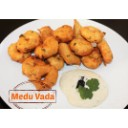vada: (93, 35, 115, 63), (57, 41, 82, 65), (32, 37, 58, 59), (36, 63, 57, 90), (23, 55, 46, 77), (70, 36, 95, 56), (9, 42, 30, 64), (19, 30, 39, 52), (81, 26, 105, 42), (82, 48, 102, 67), (51, 24, 74, 40)
